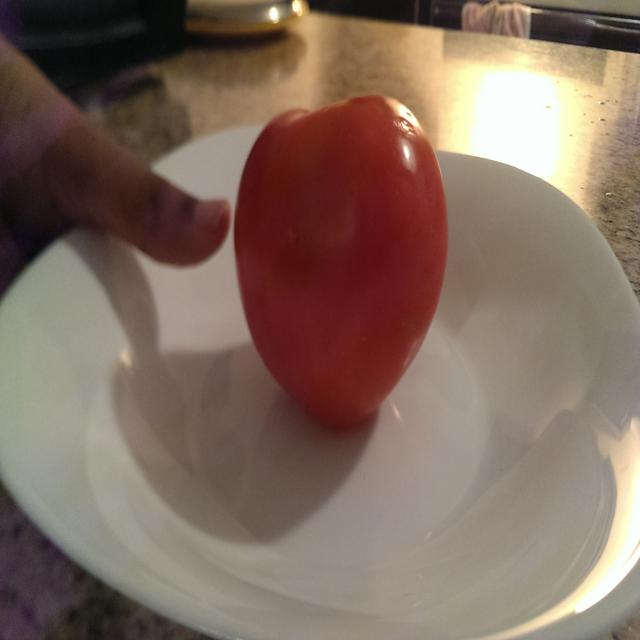tomato: (233, 94, 449, 429)
